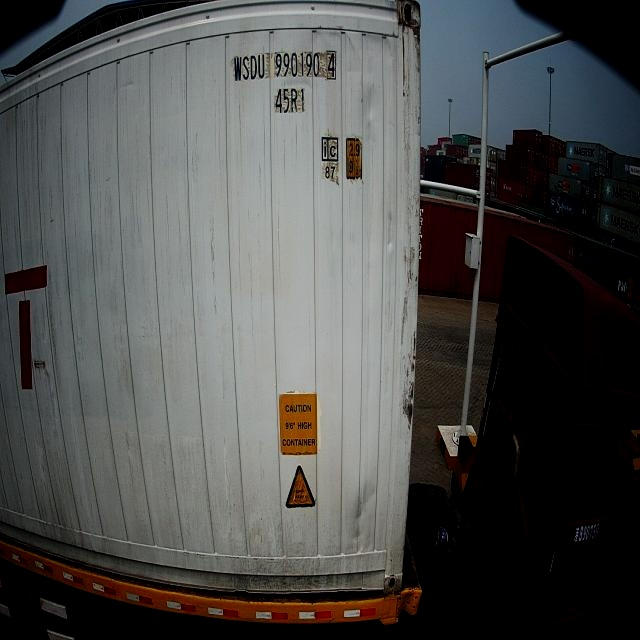Dent: (344, 465, 380, 535), (360, 84, 384, 165)
